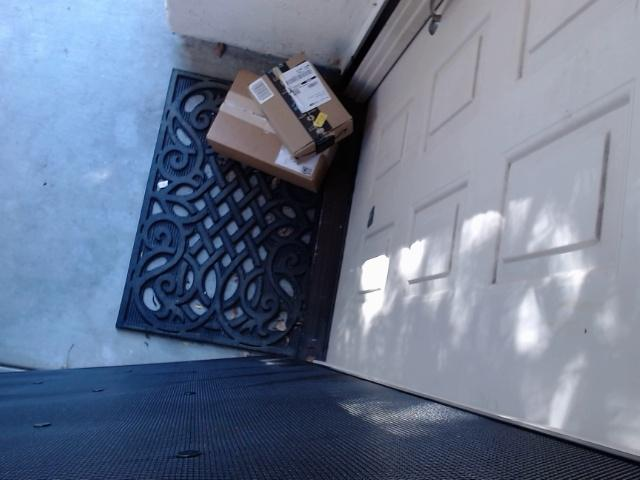box: (204, 64, 349, 193), (249, 47, 362, 167)
